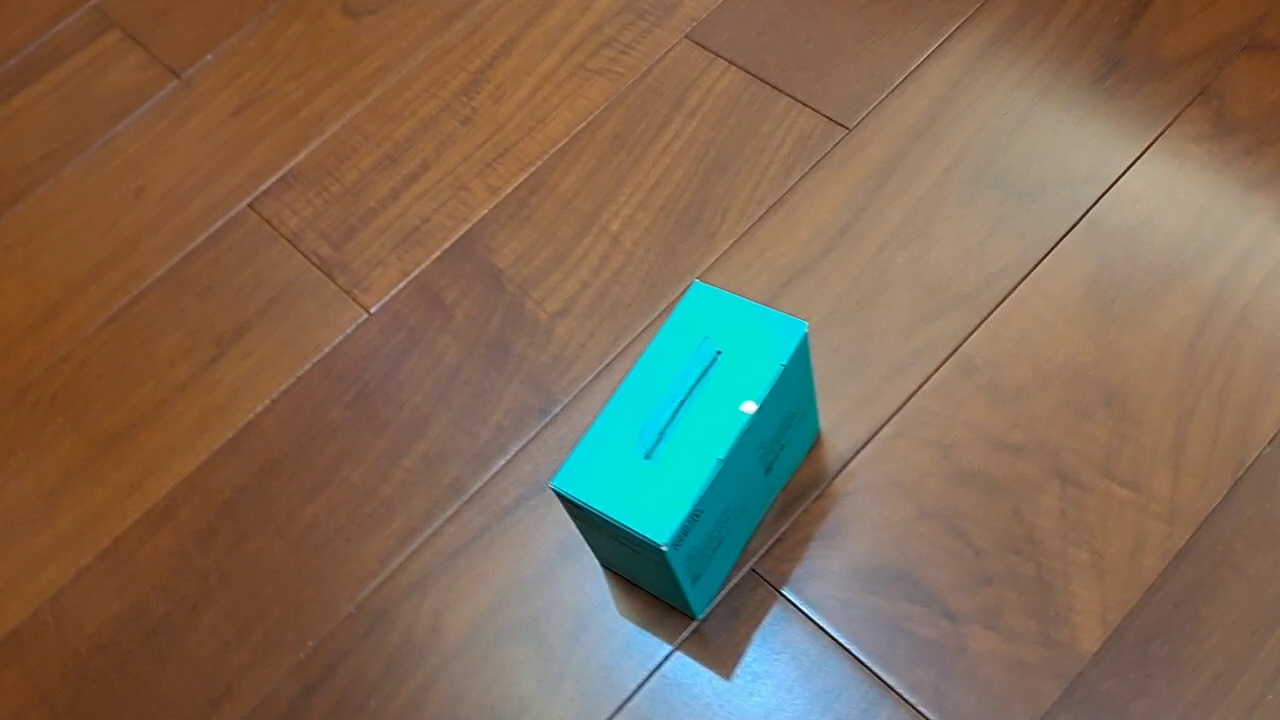webcam: (543, 275, 825, 623)
